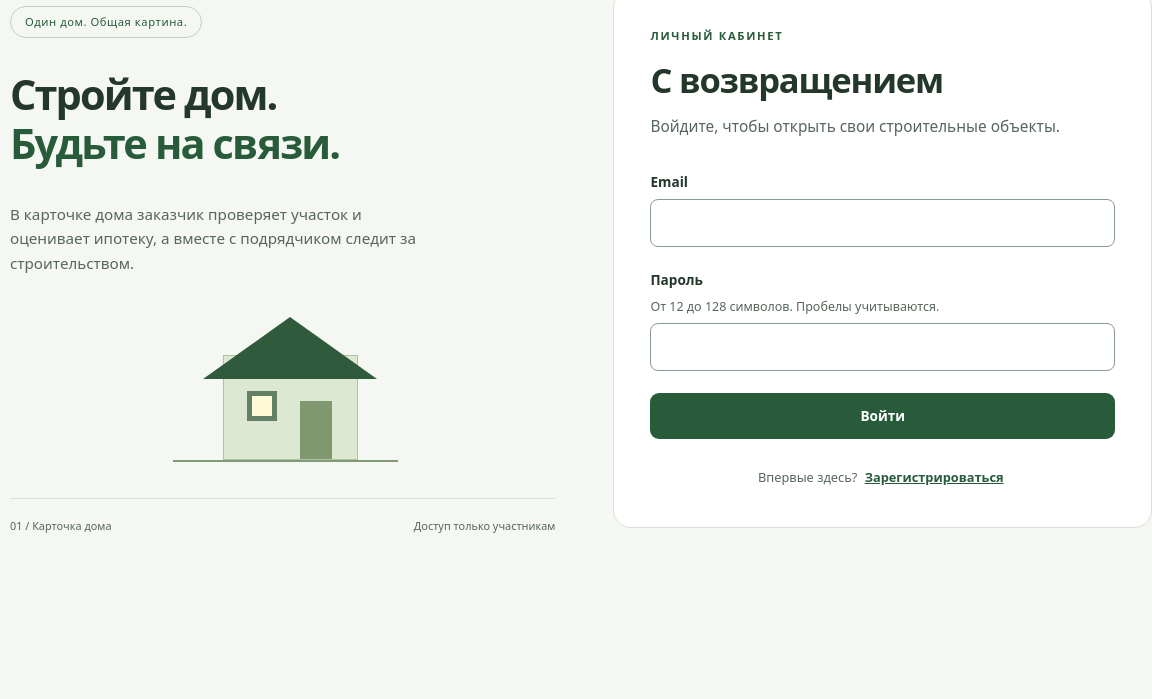
Test: Формы и состояния первой итерации › регистрирует выбранную роль и предлагает отдельный вход
Click the button "Зарегистрироваться".
click(934, 477)  # box [861,463,1008,491]
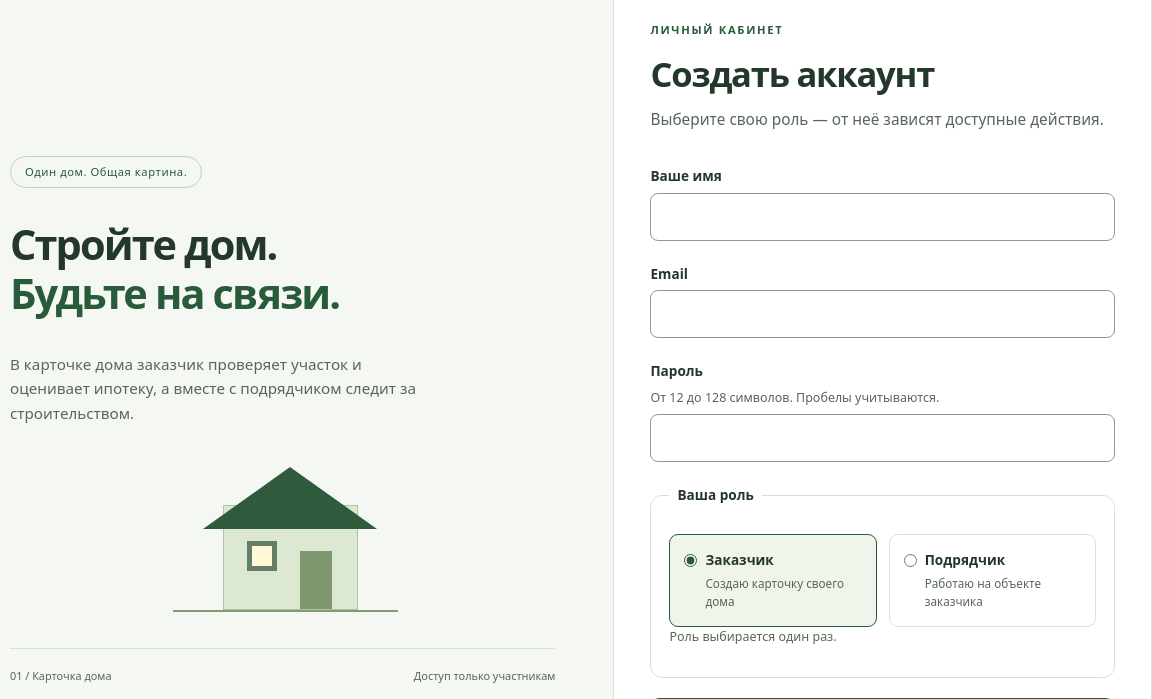
Type "owner@example.test" into the field labelled "Email".
click(883, 314); type("owner@example.test")  # box [650,290,1115,338]
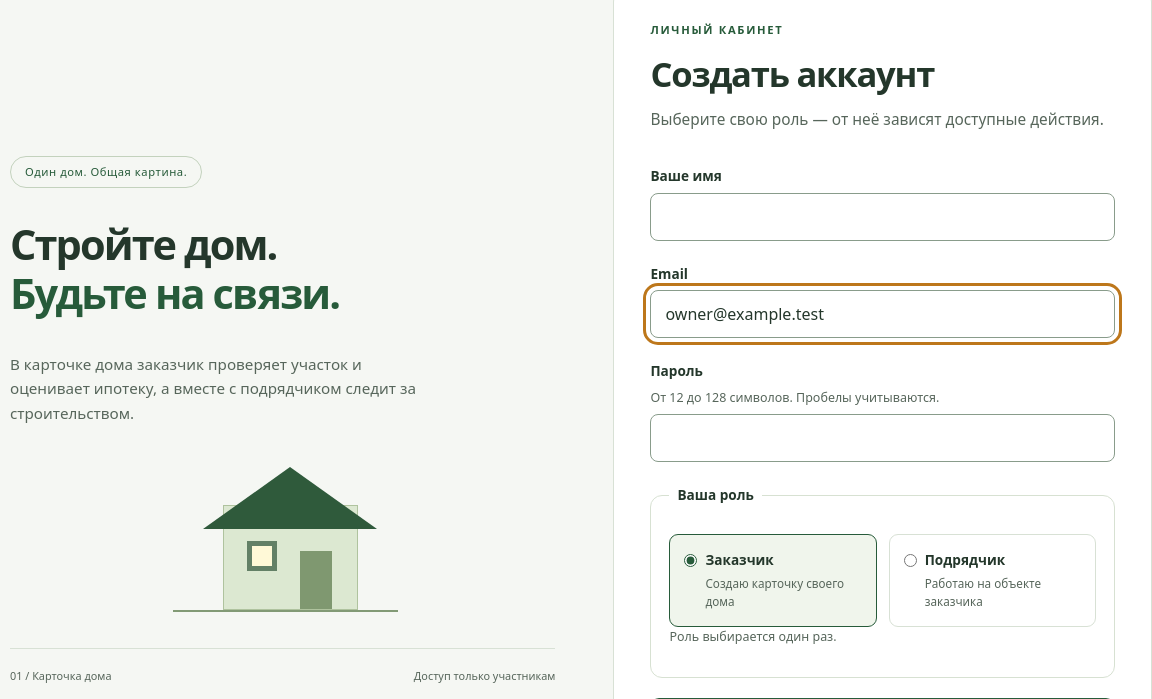
Type "example-password-123" into the password field labelled "Пароль".
click(883, 438); type("example-password-123")  # box [650,414,1115,462]
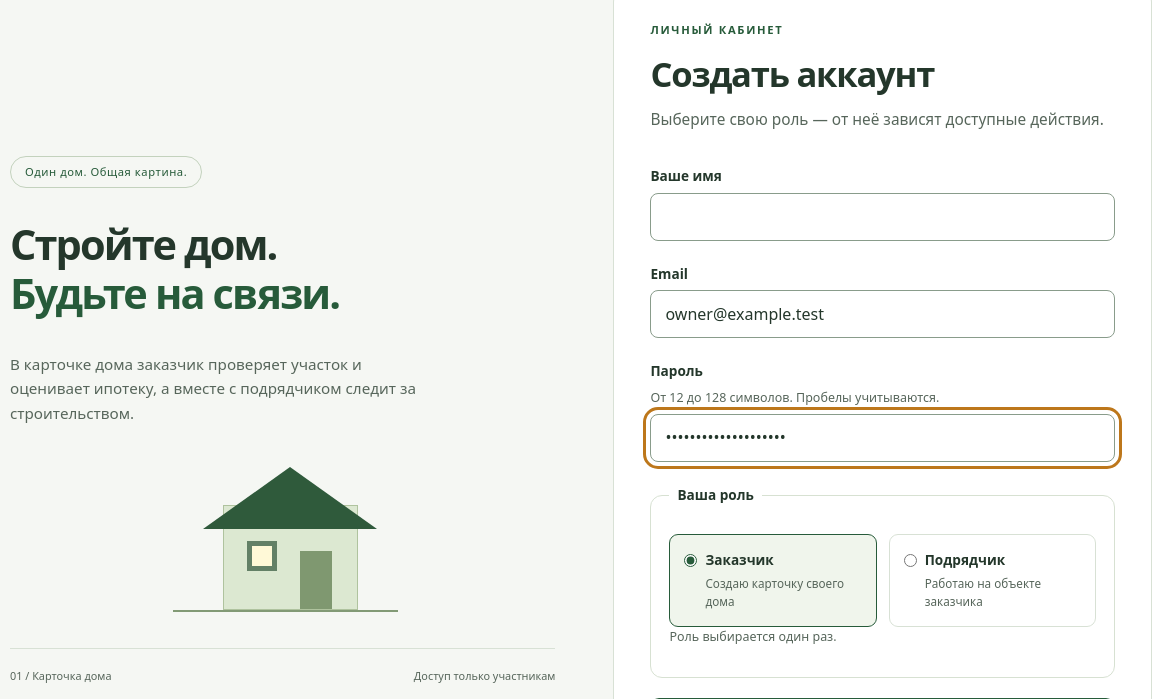
Click the radio button labelled "Подрядчик Работаю на объекте заказчика".
click(910, 560)  # box [904,554,917,567]
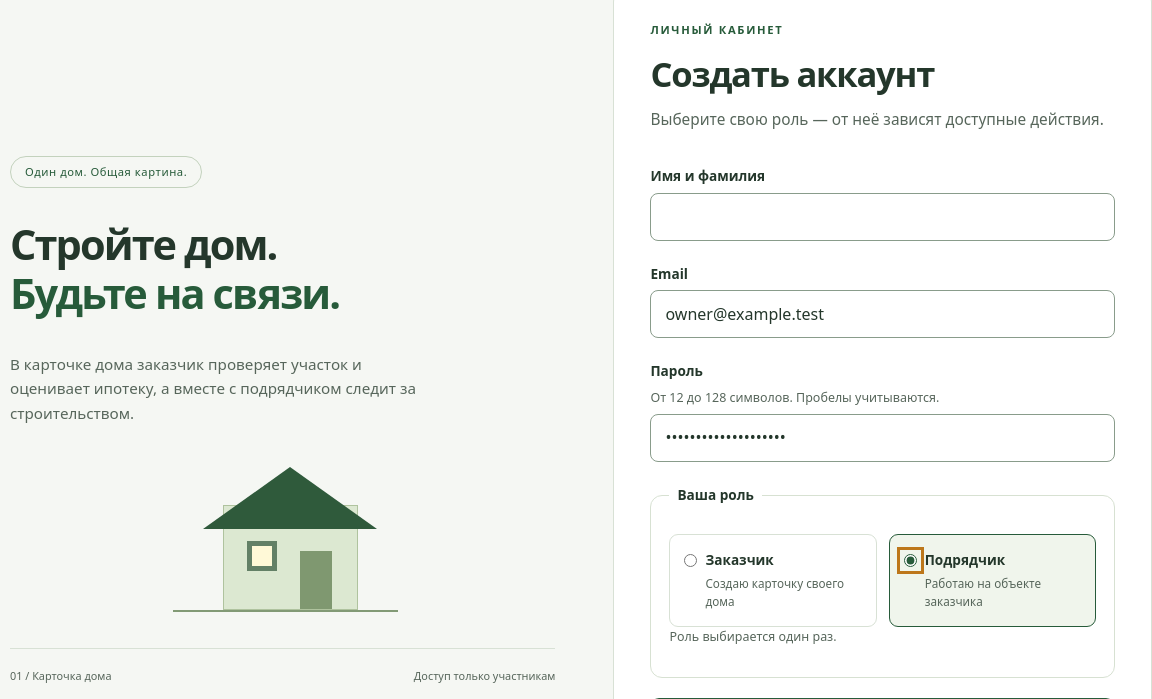
Type "Сергей Иванов" into the field labelled "Имя и фамилия".
click(883, 217); type("Сергей Иванов")  # box [650,193,1115,241]
(page scrolled)
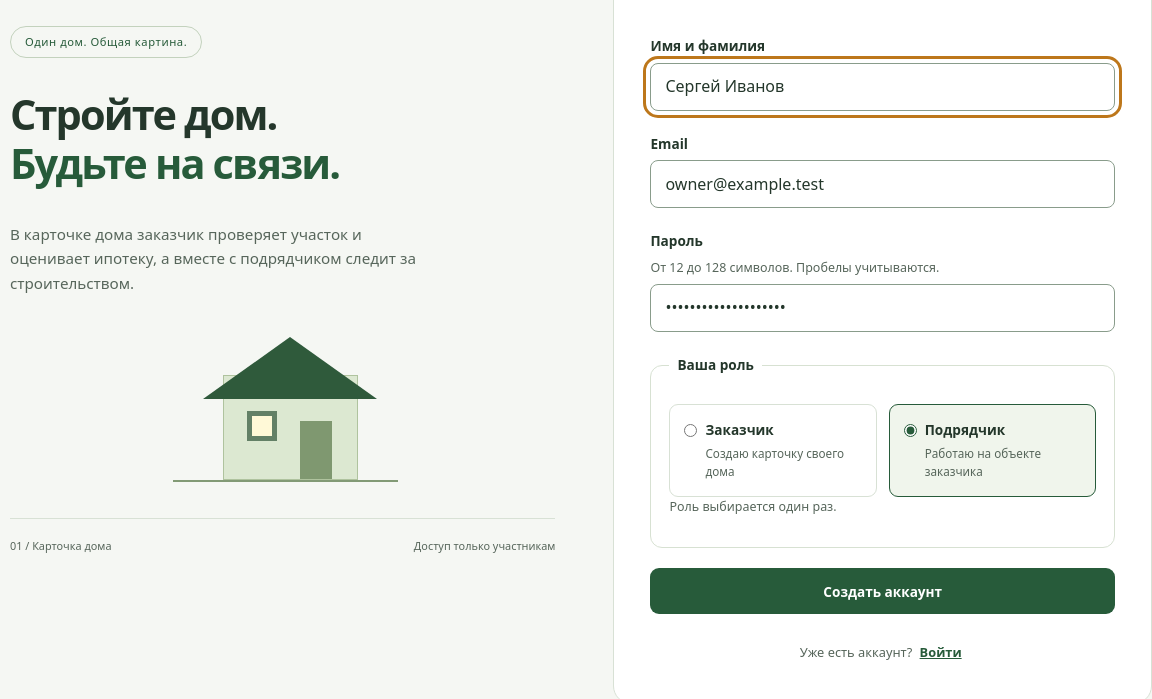
Click the button "Создать аккаунт".
click(883, 592)  # box [650,568,1115,614]
(page scrolled)
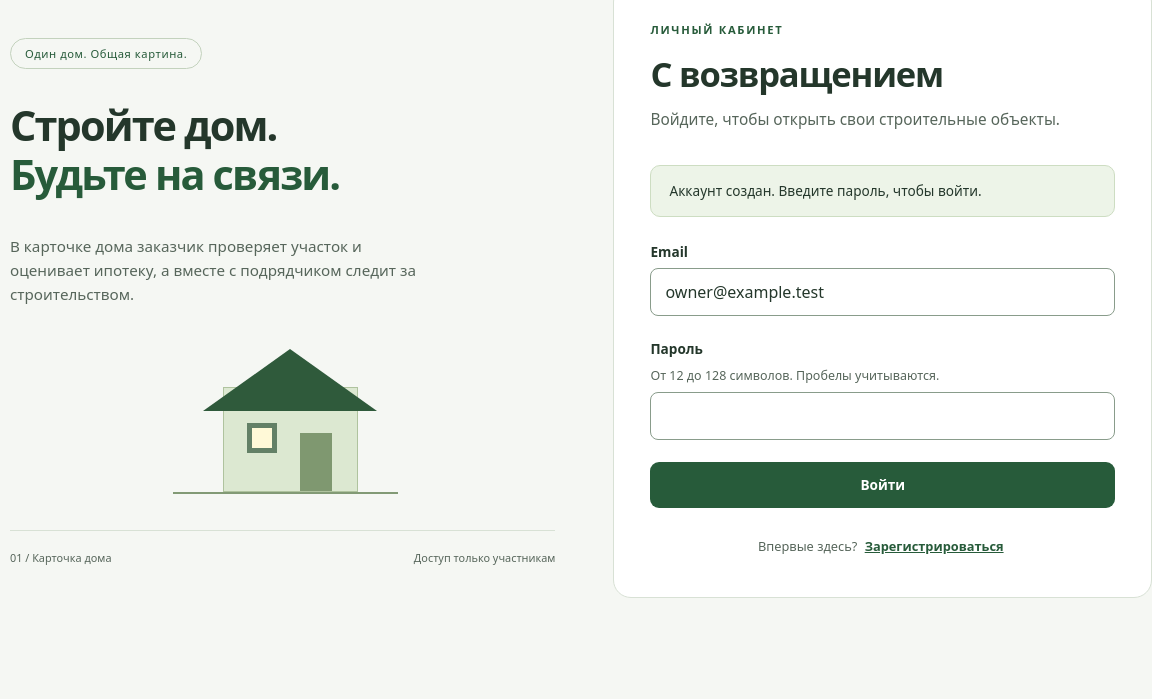
Check: the message shows "Аккаунт создан", box [670,181,982,200]
